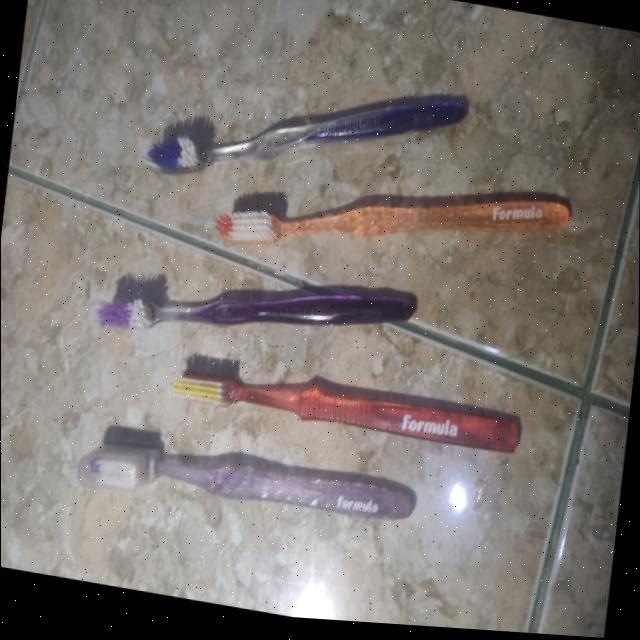toothbrush: (126, 7, 490, 243), (204, 112, 594, 324), (90, 228, 432, 394), (67, 412, 429, 560), (159, 344, 537, 470)
